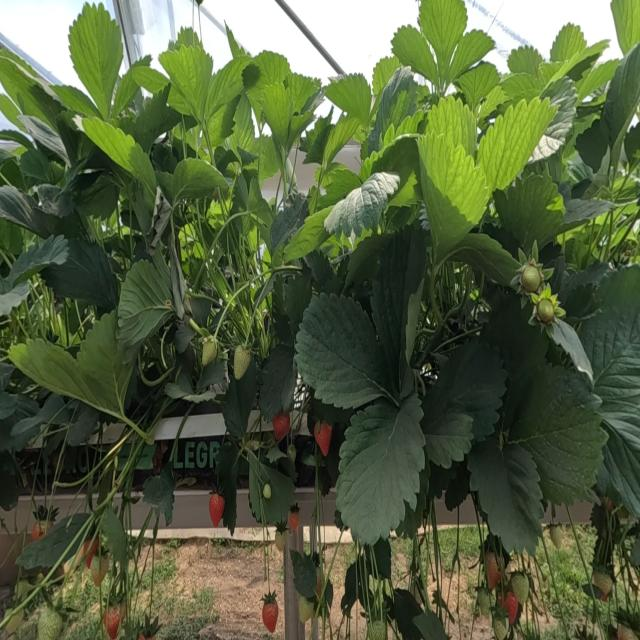Leaves: (508, 363, 607, 504), (336, 394, 426, 544), (295, 293, 390, 409), (418, 130, 489, 267), (468, 436, 544, 552), (421, 339, 507, 441), (580, 264, 640, 407), (371, 230, 426, 372), (478, 98, 555, 195), (68, 4, 123, 119), (75, 311, 133, 415), (81, 117, 157, 196), (41, 239, 119, 315), (495, 174, 563, 252), (118, 260, 174, 350), (9, 338, 87, 401), (597, 405, 640, 519), (324, 174, 400, 238), (160, 45, 212, 126), (601, 42, 640, 148), (16, 513, 89, 569), (247, 51, 291, 127), (259, 333, 297, 420), (419, 0, 467, 67), (205, 57, 250, 127), (425, 95, 477, 155), (6, 235, 69, 284), (423, 413, 473, 469), (282, 206, 332, 260), (391, 25, 437, 81), (449, 29, 495, 82), (172, 158, 227, 200), (326, 74, 372, 124), (455, 62, 499, 110), (0, 185, 42, 233), (262, 82, 293, 146), (143, 465, 175, 524), (576, 118, 609, 171), (550, 23, 586, 62), (507, 45, 543, 75)
Strawberries: (38, 607, 62, 639), (498, 590, 518, 625), (262, 590, 278, 633), (592, 569, 613, 601), (519, 263, 542, 292), (313, 421, 332, 456), (510, 571, 530, 604), (234, 345, 252, 380), (90, 556, 109, 587), (209, 492, 225, 527), (103, 608, 120, 639), (486, 553, 500, 590), (272, 413, 290, 441), (83, 538, 99, 568), (536, 299, 554, 324), (476, 586, 491, 616), (202, 337, 217, 367), (366, 620, 387, 639), (299, 596, 313, 622), (492, 619, 507, 639), (549, 524, 561, 549), (32, 521, 46, 540), (288, 510, 300, 530), (275, 530, 286, 551), (263, 483, 271, 499)
